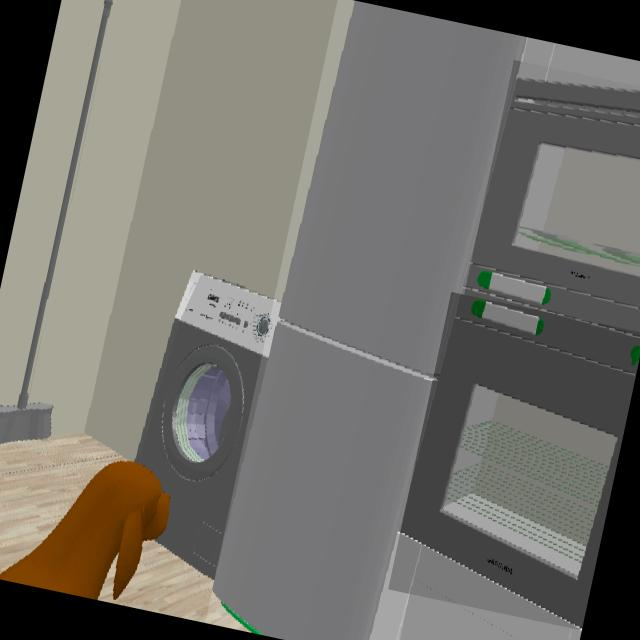fridge: (212, 0, 527, 640)
microwave: (470, 78, 640, 339)
oven: (399, 297, 640, 629)
